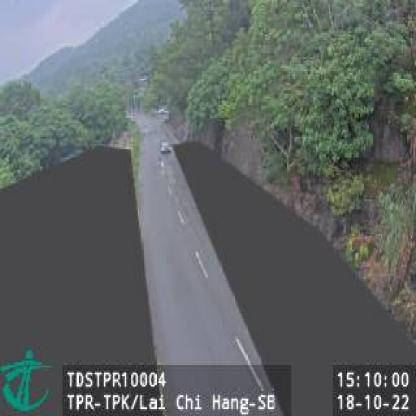Car: (159, 139, 175, 155)
